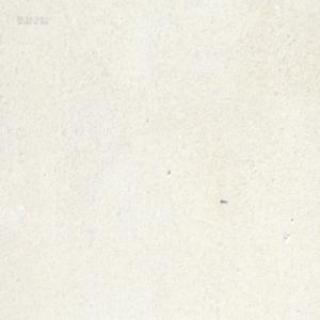Nailtrack_idkeyframe: (219, 197, 226, 203)
